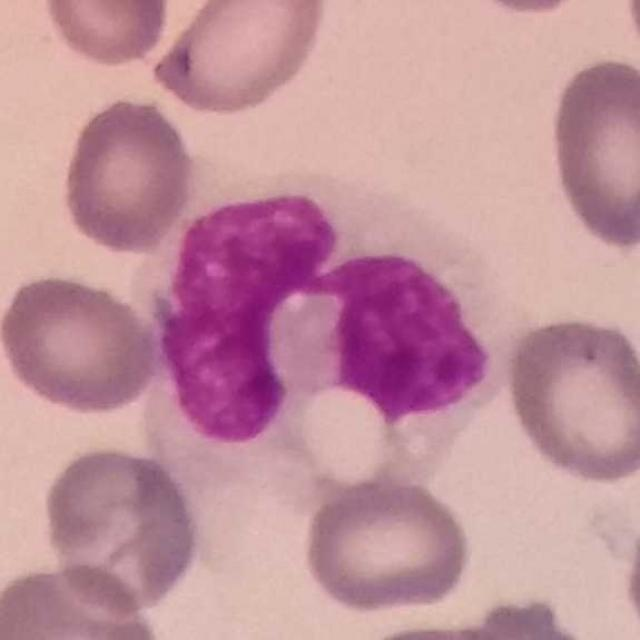mono: (118, 142, 516, 526)
